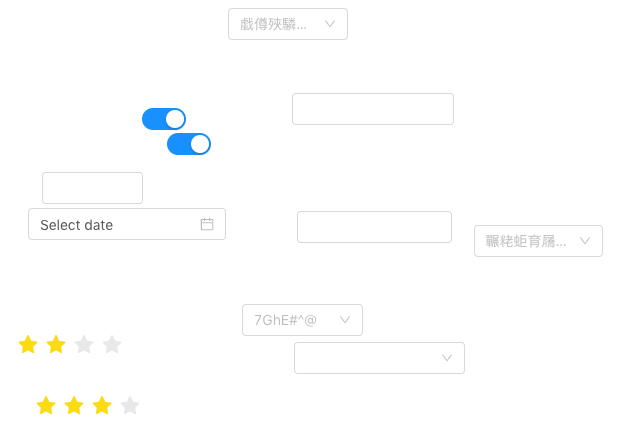DatePicker: (28, 208, 226, 240)
Input: (292, 93, 454, 125), (297, 211, 452, 243), (42, 172, 143, 204)
Rate: (36, 389, 156, 421), (18, 328, 138, 360)
Select: (294, 342, 465, 374), (474, 225, 603, 257), (242, 304, 363, 336), (228, 8, 348, 40)
Switch: (167, 132, 211, 156), (142, 107, 186, 131)
